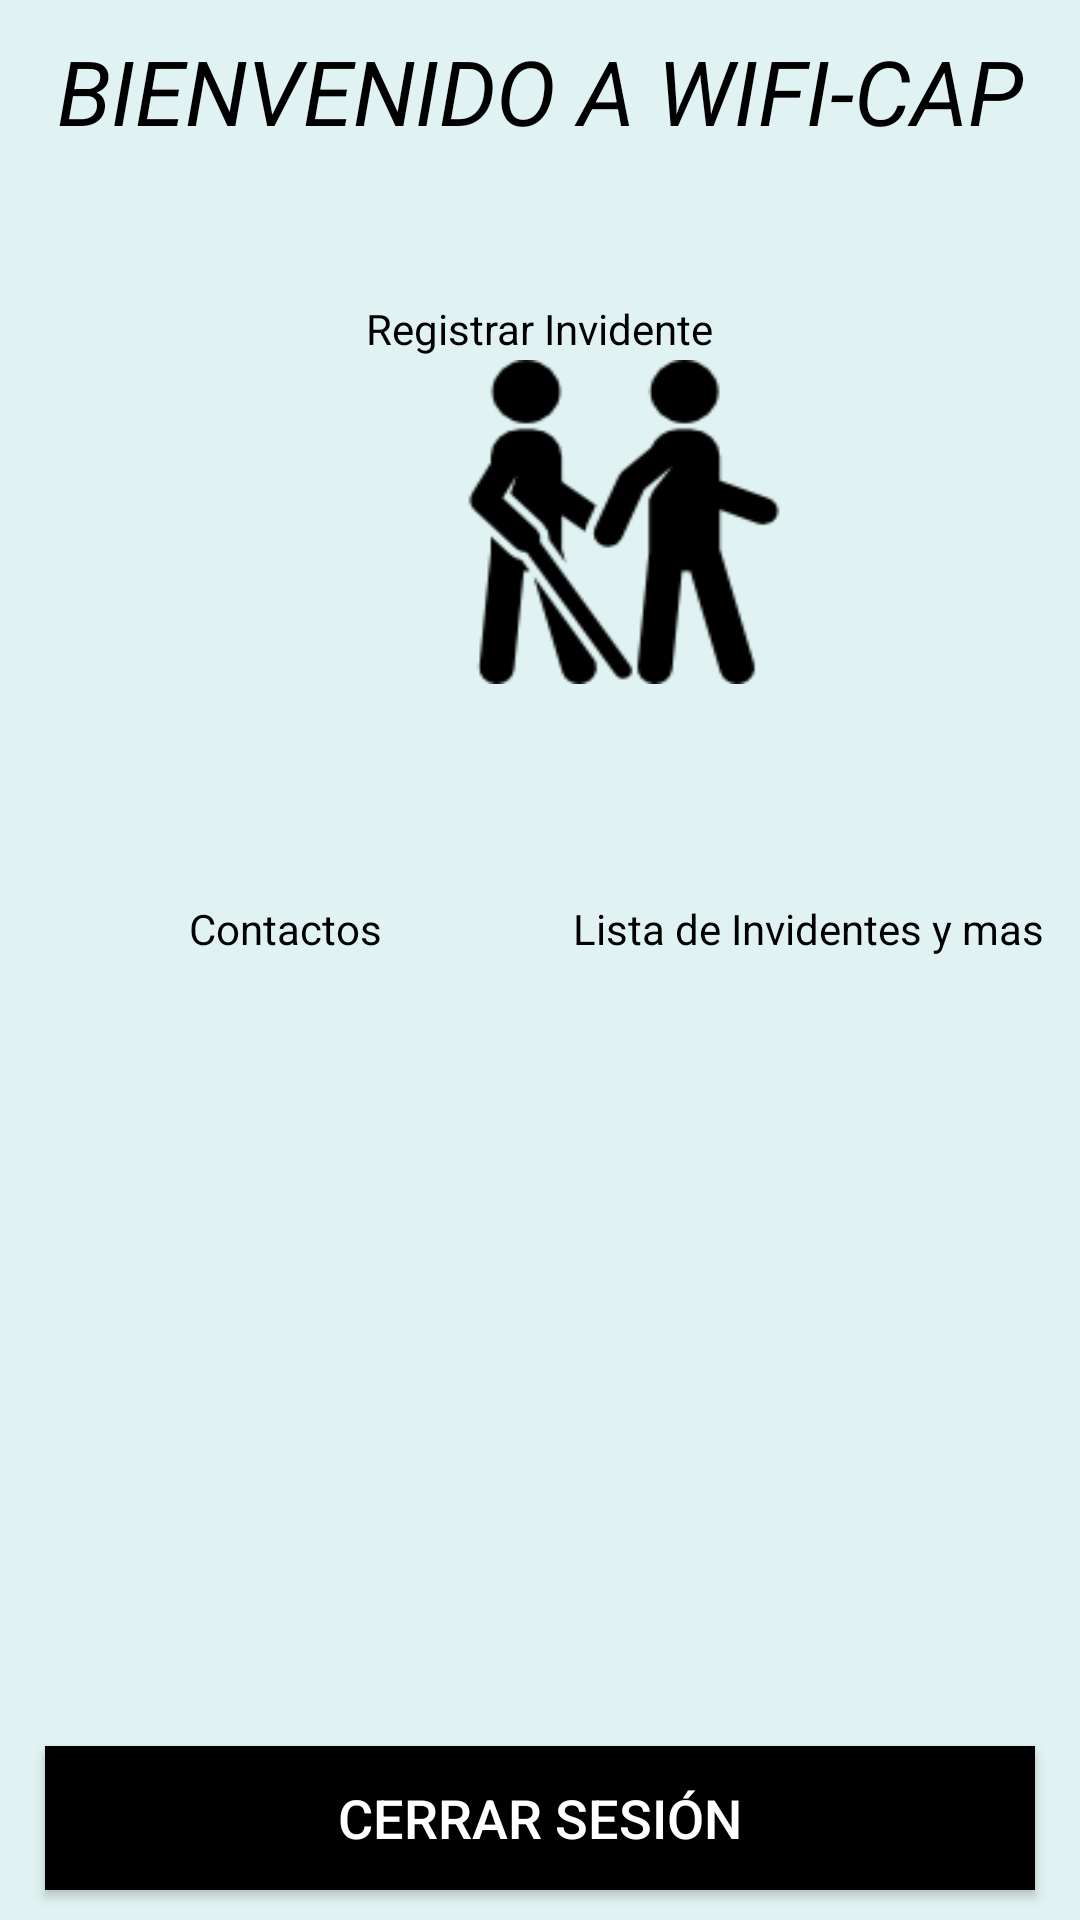

Named icons in this screenshot (1080 x 1920) and their centers, (x,y):
invalido: (624,522)
